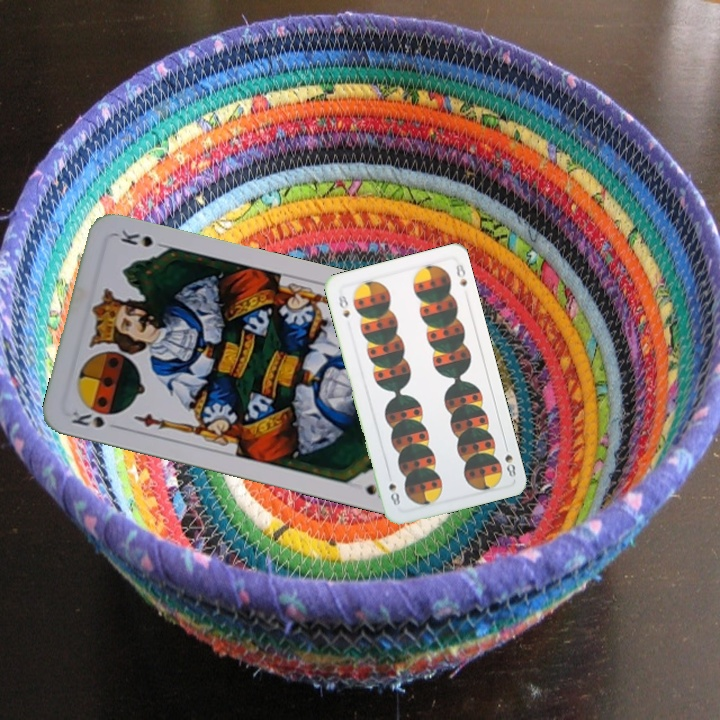S8: (500, 439, 518, 480), (334, 288, 352, 320)
SK: (67, 406, 124, 432)
